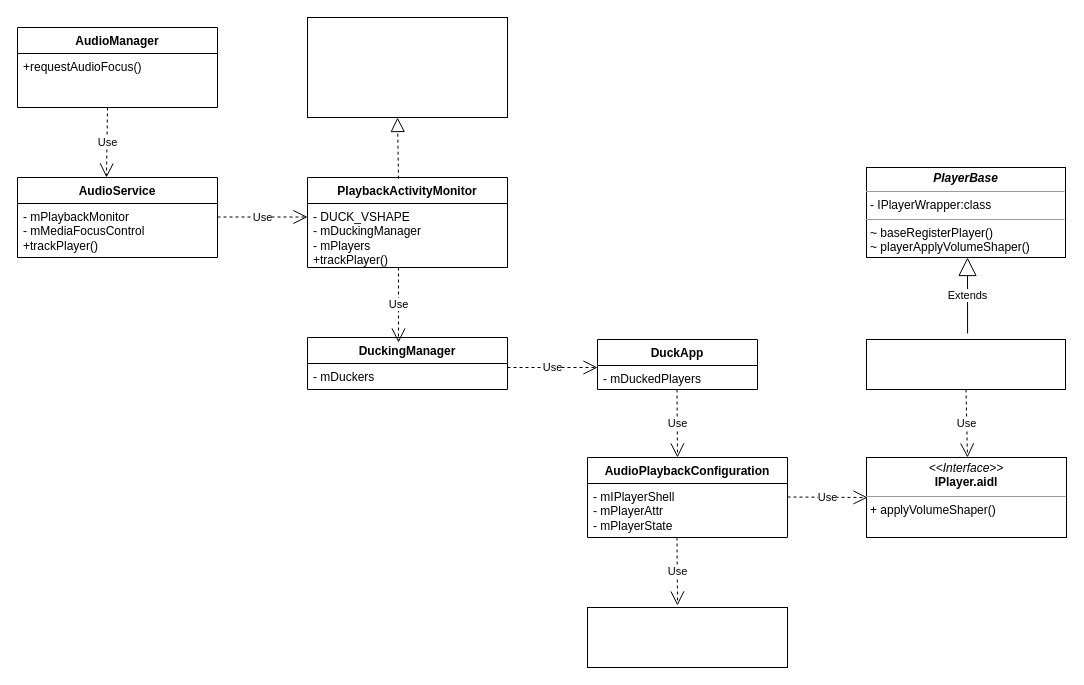
Image size: 1084x685. Some labels were removed from this diagram. Here are the shapes that lost their labels. From the top down, the centre of each, then its label:
[407,67]: <<Interface>> PlayerFocusEnforcer + duckPlayers() + unduckPlayers()
[966,364]: MediaPlayer +native_applyVolumeShaper()
[687,637]: PlayerProxy - mConf
